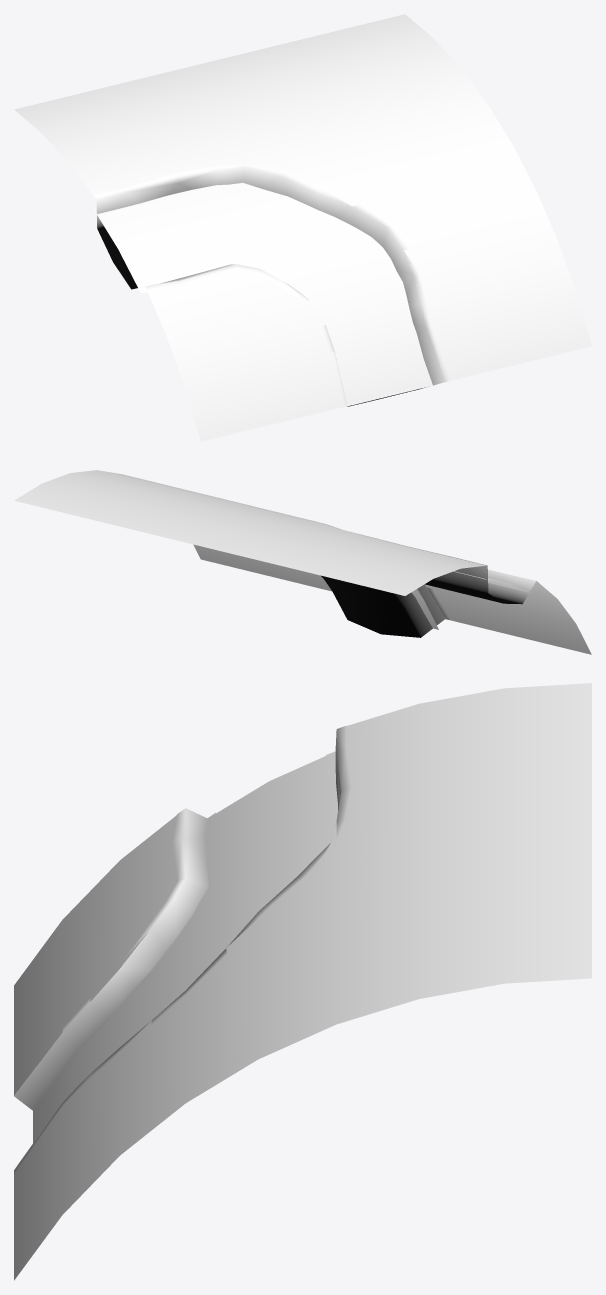
File: grd_Rnw_0.dae
3 renders of one model, top to bottom at view 1: azimuth 30°, elevation 25°; view 2: azimuth 150°, elevation 25°; view 3: azimuth 270°, elevation 25°, orthographic. The views are drawn at different scales.
Visible parts, largest first — view 1: grass_1_0, river_2_0, cliff_river_0_0, river_edge_3_0; view 2: grass_1_0, cliff_river_0_0, river_2_0; view 3: grass_1_0, river_2_0, cliff_river_0_0, river_edge_3_0.
Boxes of the visible parts, <box> form: grass_1_0: <box>14,14,591,441</box>; river_2_0: <box>94,183,438,407</box>; cliff_river_0_0: <box>93,161,451,406</box>; river_edge_3_0: <box>94,182,416,401</box>; grass_1_0: <box>14,470,591,654</box>; cliff_river_0_0: <box>313,520,538,637</box>; river_2_0: <box>412,578,531,629</box>; grass_1_0: <box>14,683,591,1280</box>; river_2_0: <box>33,752,337,1142</box>; cliff_river_0_0: <box>14,725,351,1174</box>; river_edge_3_0: <box>34,751,337,1112</box>.
Size of the model in its own units: 512 by 264 by 423.
4 materials, 1 textured.
